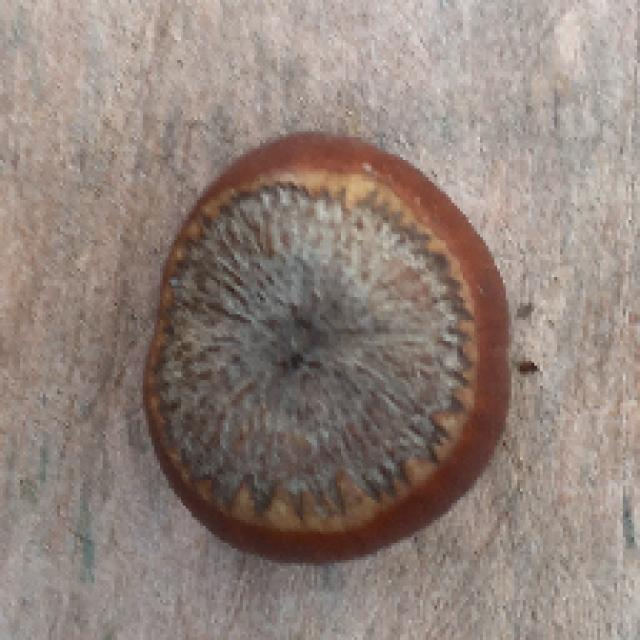damagedHazelnut: (147, 127, 510, 564)
